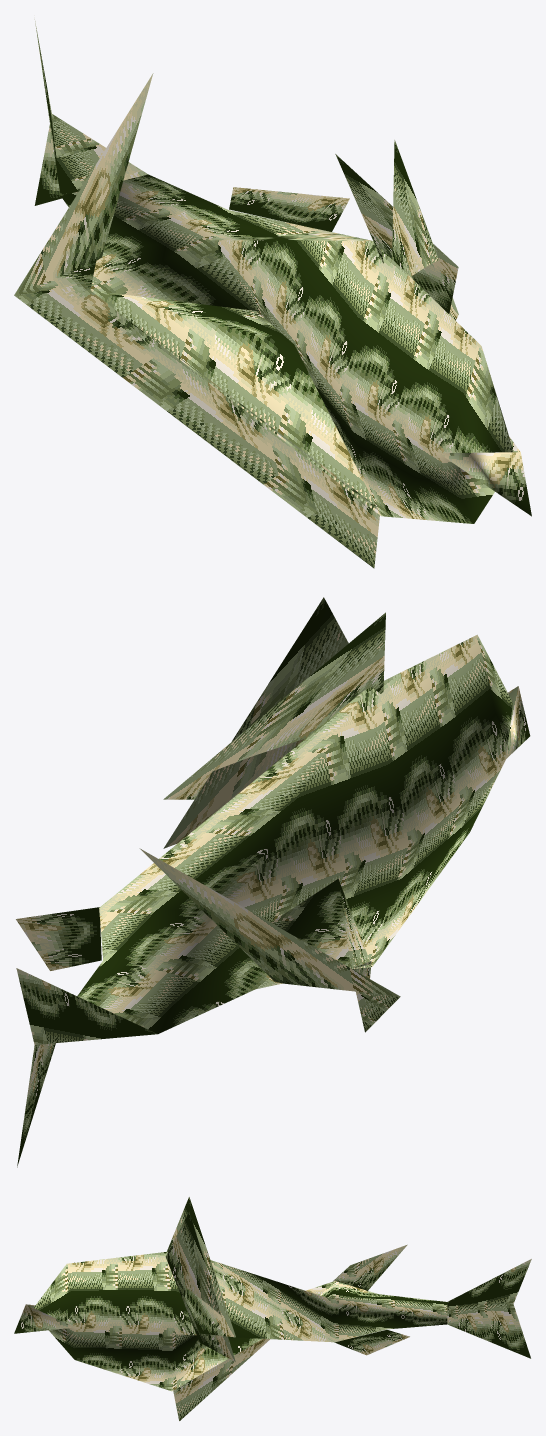
The model's file is 2079_fish09.gltf.
3 renders of one model, top to bottom at view 1: azimuth 30°, elevation 25°; view 2: azimuth 150°, elevation 25°; view 3: azimuth 270°, elevation 25°, orthographic. The views are drawn at different scales.
Parts seen in each view (by area): view 1: 2079_fish09; view 2: 2079_fish09; view 3: 2079_fish09.
Part boxes in pixels (x1,y1,x2,y2): 2079_fish09: (14, 19, 531, 568); 2079_fish09: (16, 597, 530, 1167); 2079_fish09: (14, 1197, 531, 1420).
Size of the model in its own units: 0.415 by 0.4685 by 1.01.
Materials: 1 (1 with a texture image).
